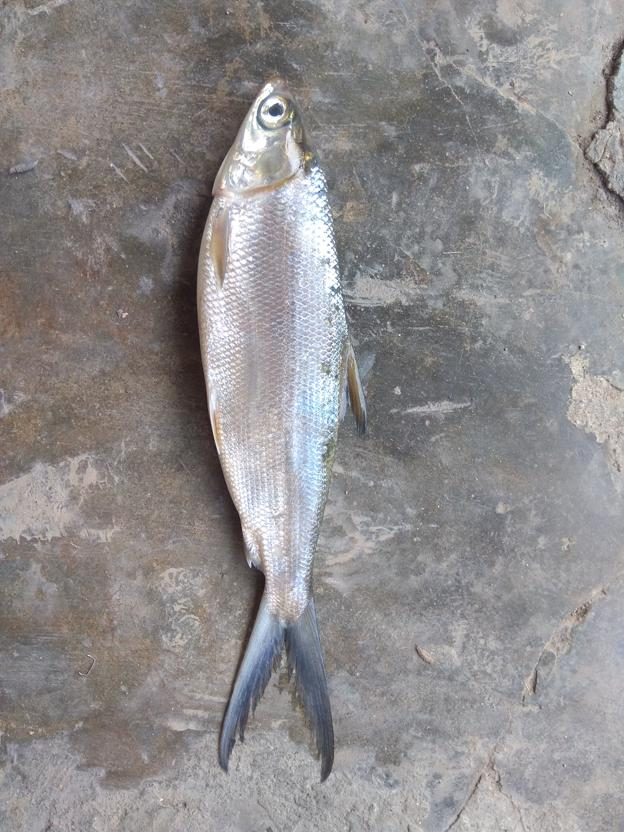Fish head: (210, 72, 318, 197)
Fish tail: (215, 592, 339, 784)
